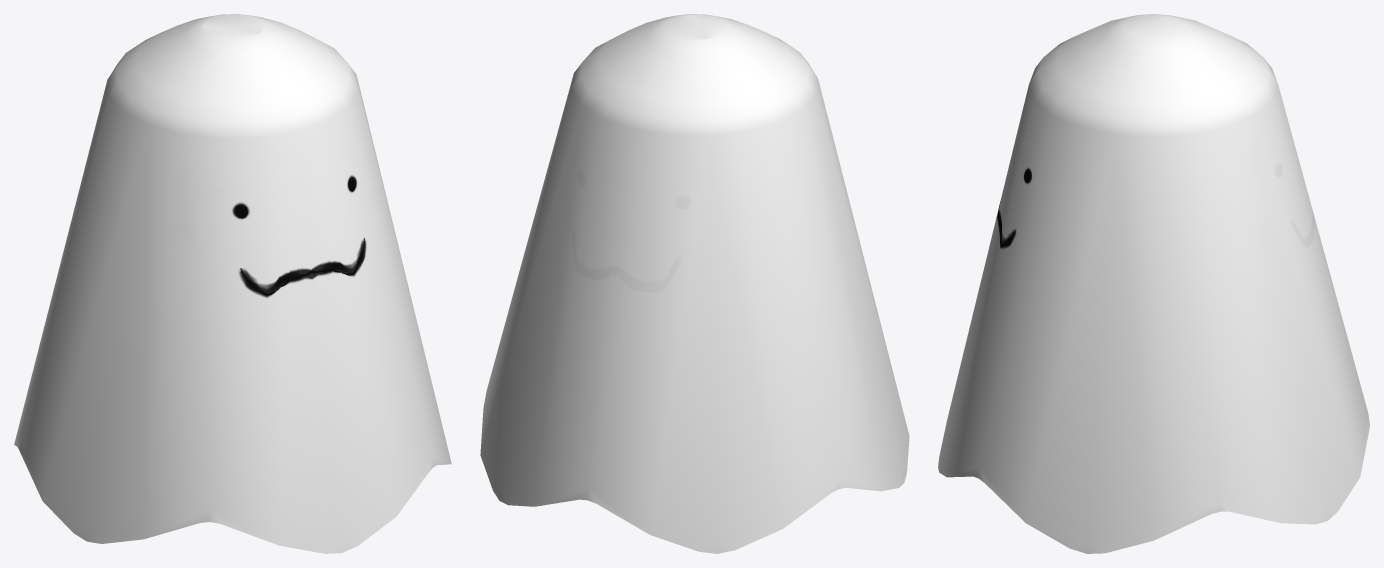
Rendered from ghost.dae.
The picture shows the model from 3 angles, left to right: view 1: azimuth 30°, elevation 25°; view 2: azimuth 150°, elevation 25°; view 3: azimuth 270°, elevation 25°; orthographic projection. The views are drawn at different scales.
Parts seen in each view (by area): view 1: Cylinder; view 2: Cylinder; view 3: Cylinder.
Part boxes in pixels (box(x1,y1,x2,y2)): Cylinder: box(14, 14, 451, 553); Cylinder: box(480, 14, 909, 553); Cylinder: box(938, 14, 1369, 553).
Bounding box in the file's own units: 2 × 1.99 × 2.23.
Materials: 1 (1 with a texture image).
